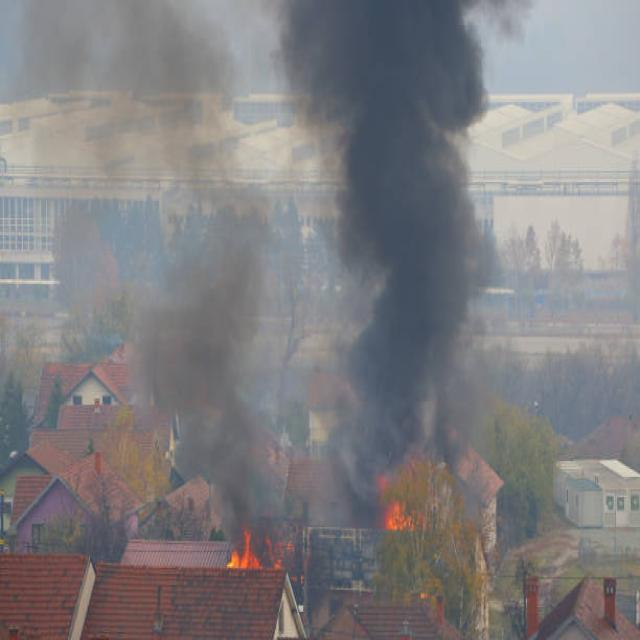Fire: (376, 471, 424, 528), (225, 532, 282, 570)
Smoke: (280, 0, 485, 486), (132, 267, 287, 542)
